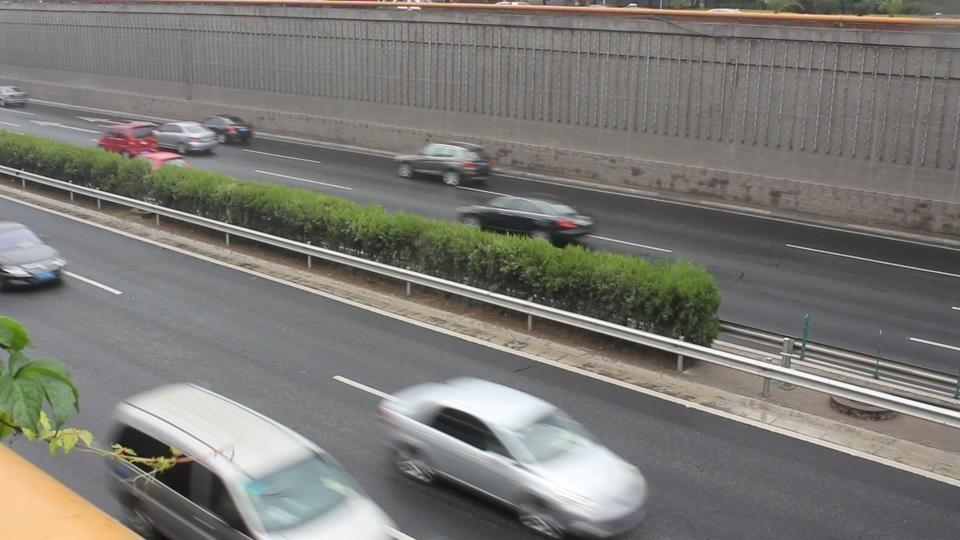car: (104, 381, 417, 537), (377, 375, 648, 537), (456, 193, 596, 248), (0, 221, 69, 291), (395, 141, 497, 187), (154, 120, 220, 156), (95, 121, 158, 157), (201, 115, 252, 146), (0, 84, 29, 107)
